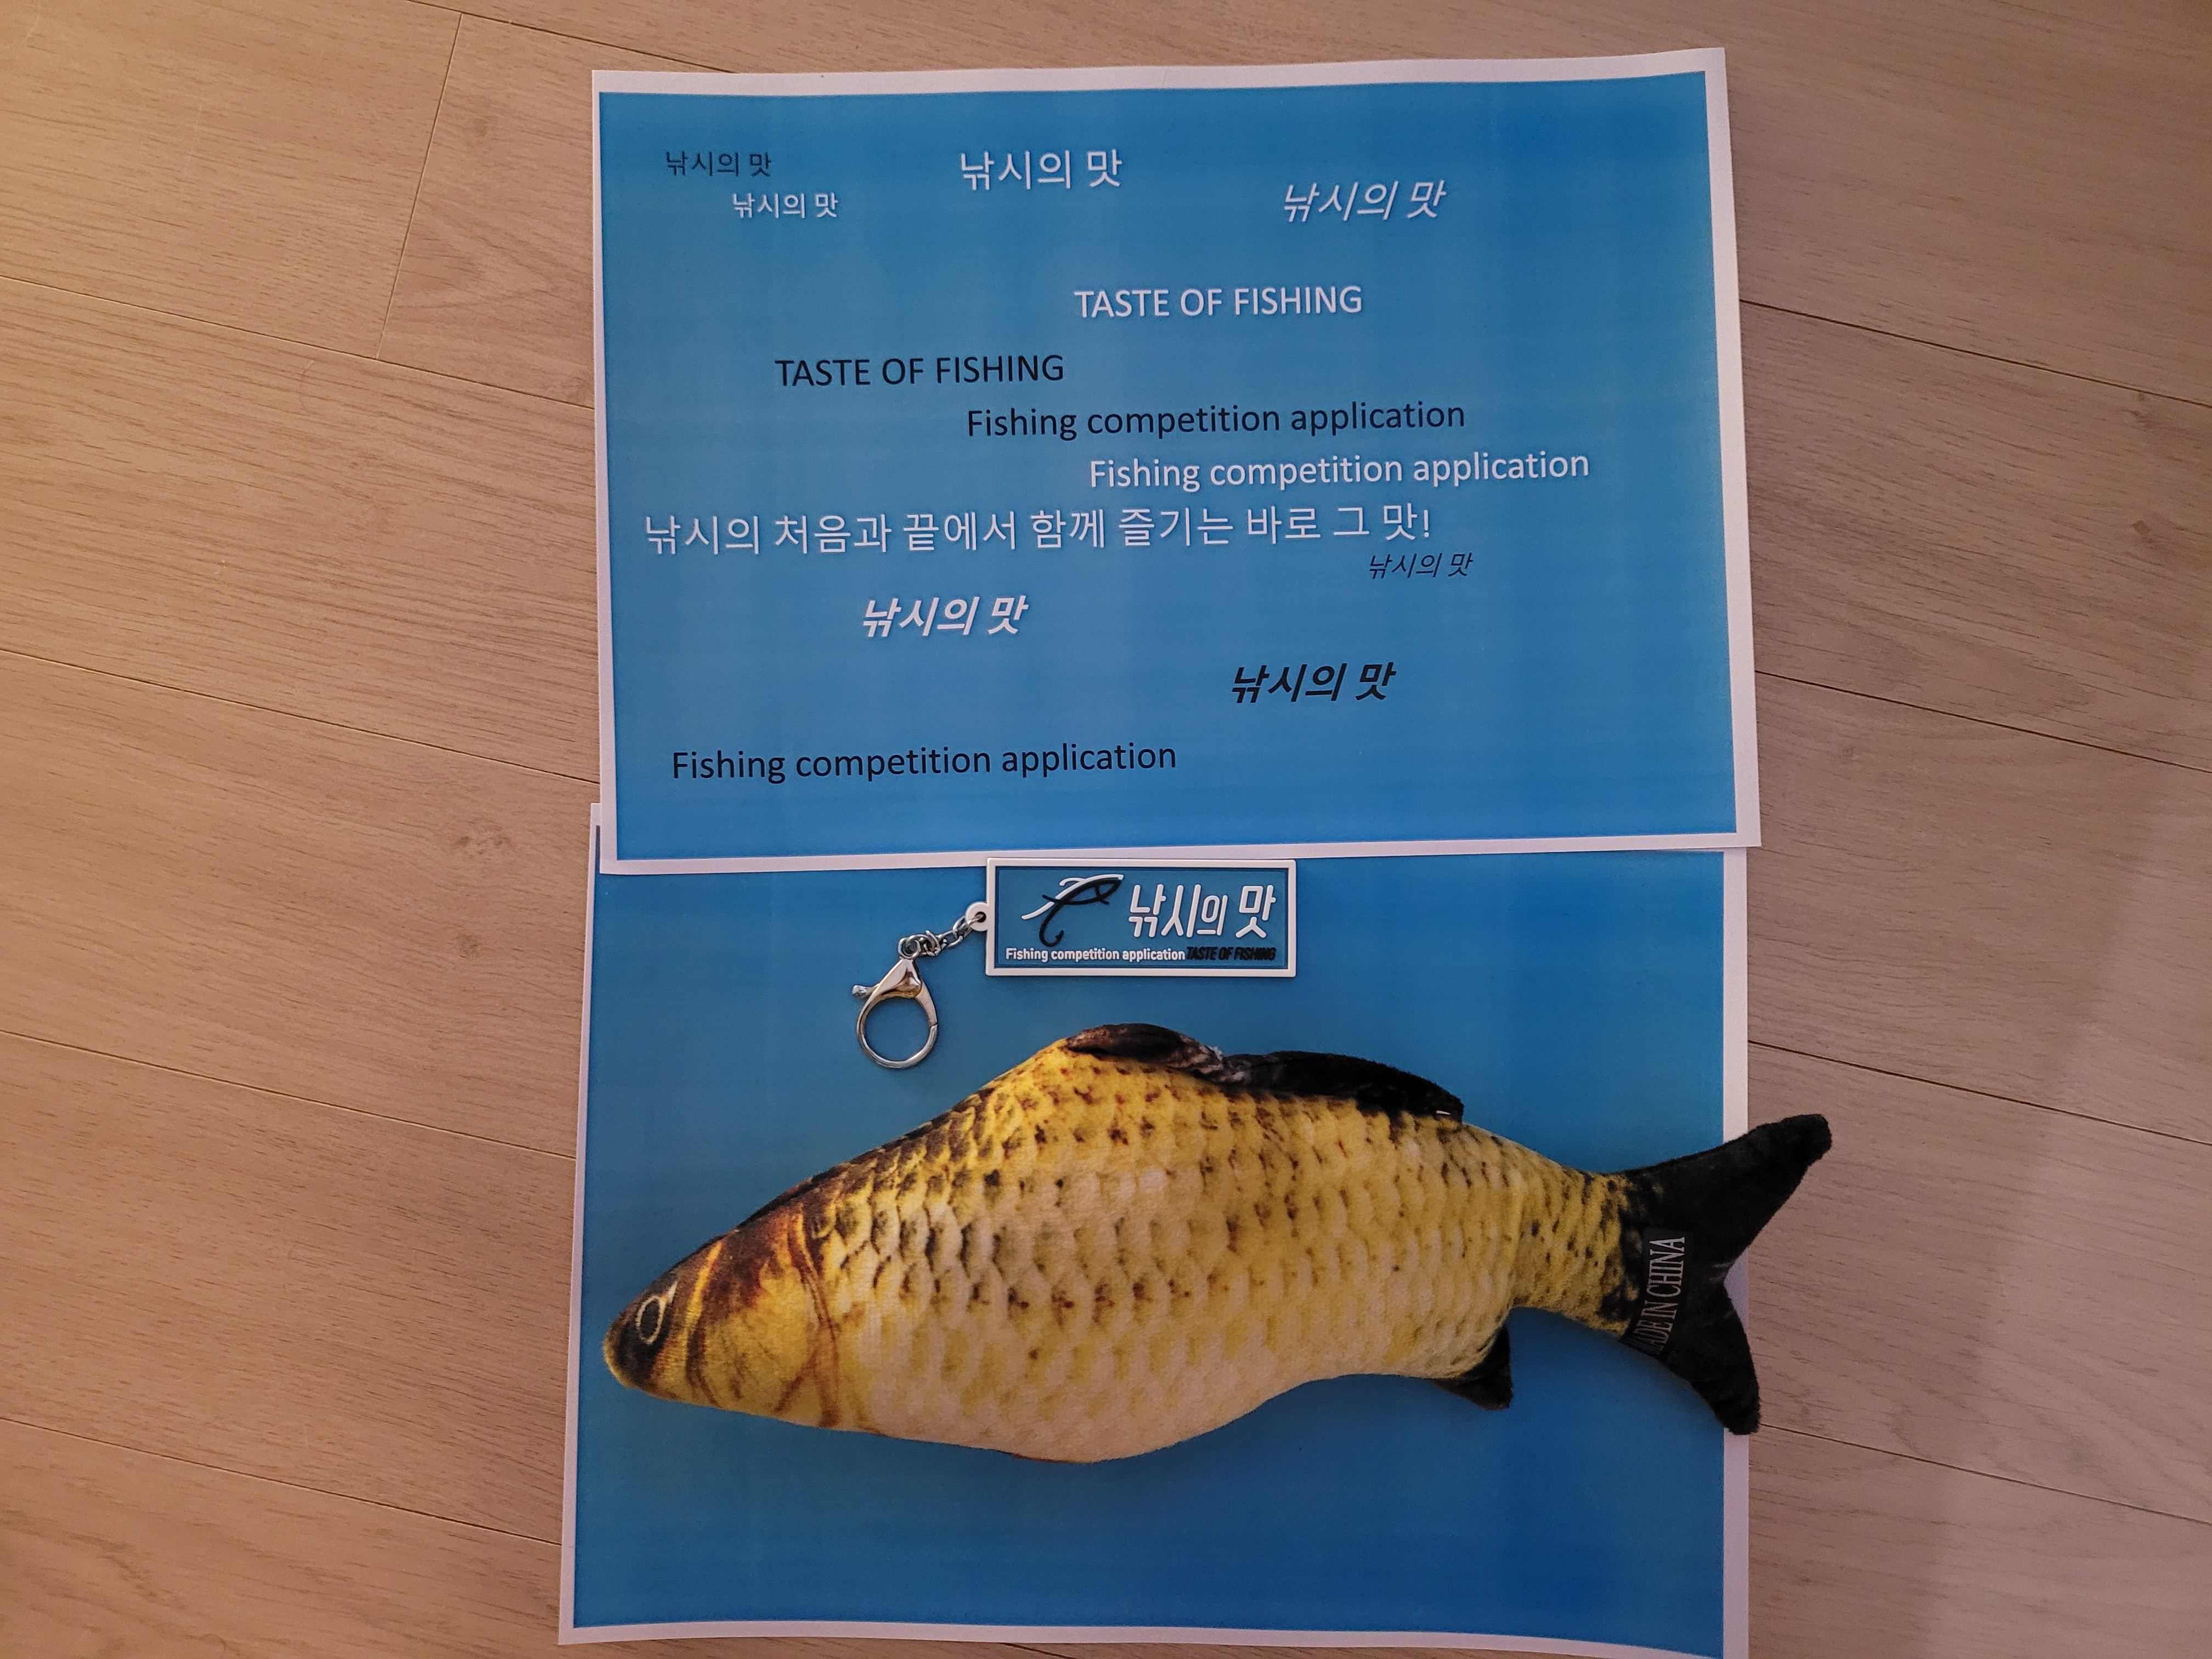fish: (608, 1032, 1831, 1462)
tag: (981, 857, 1296, 979)
